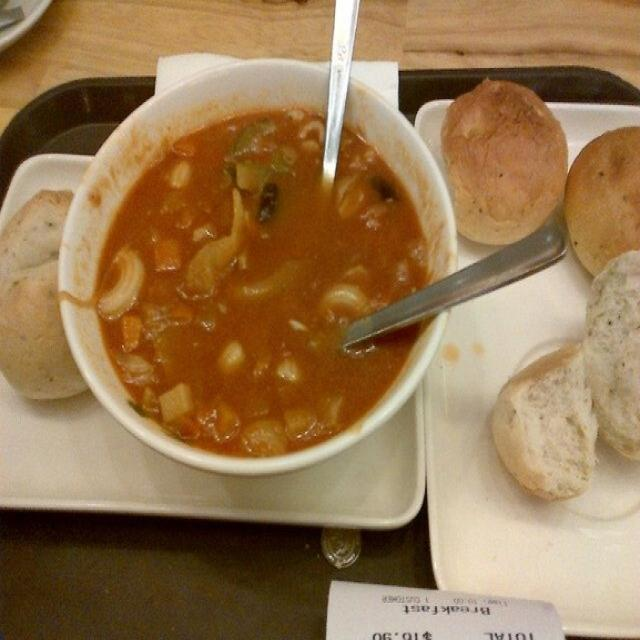汤锅炖物: (63, 67, 449, 474)
